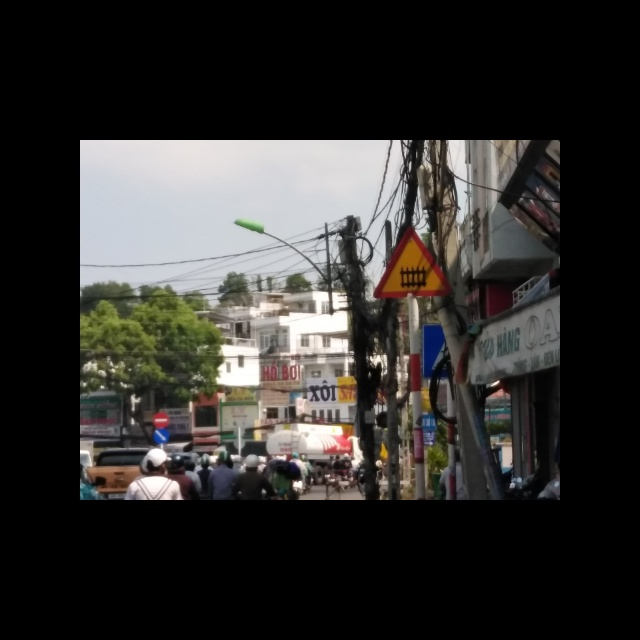Giao nhau với đường sắt có rào chắn: (371, 225, 450, 301)
